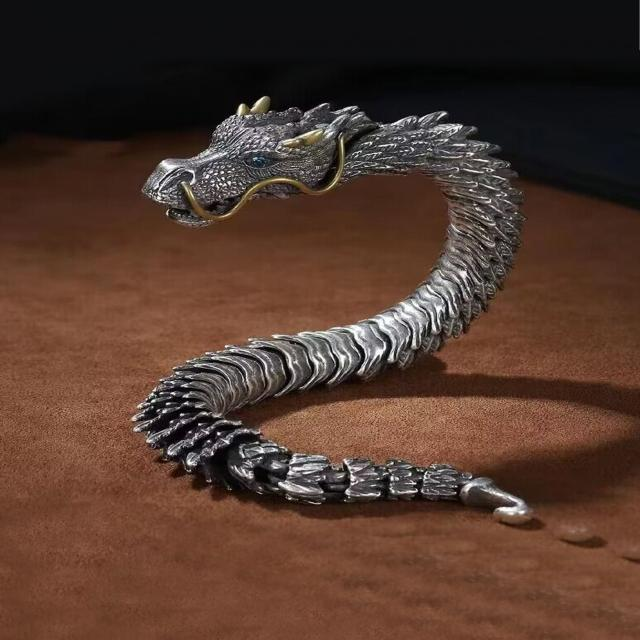bracelet: (78, 62, 640, 618)
